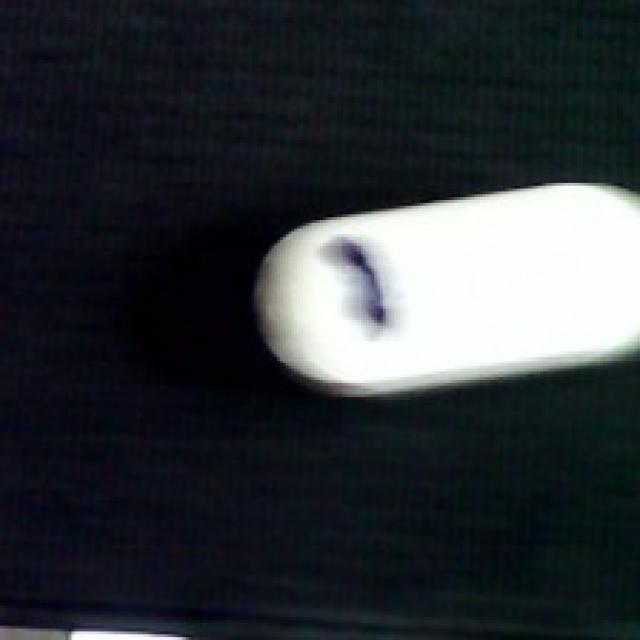defected: (243, 180, 640, 403)
